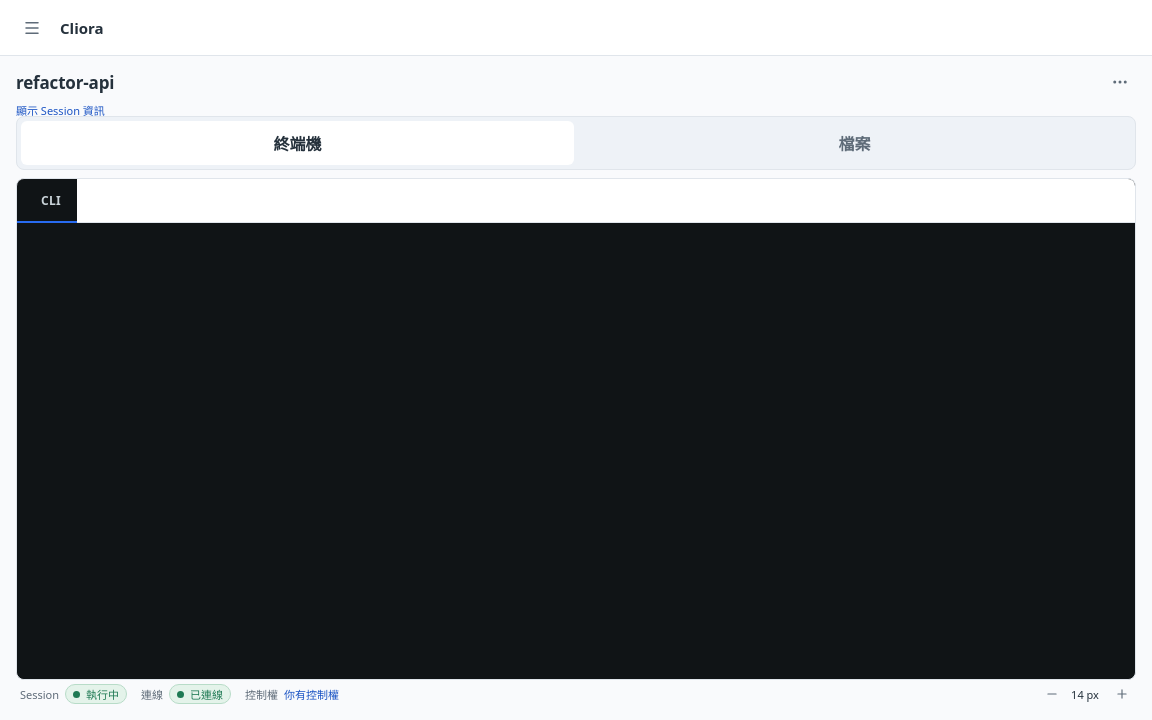
Test: SessionWorkspaceView — 手機上的檔案（#76） › 新 session 進入檔案分頁：列出根目錄，點檔案開啟全幅唯讀預覽並讀取內容
Click the tab "檔案". click: point(854, 143)
box: [578,121,1131,165]
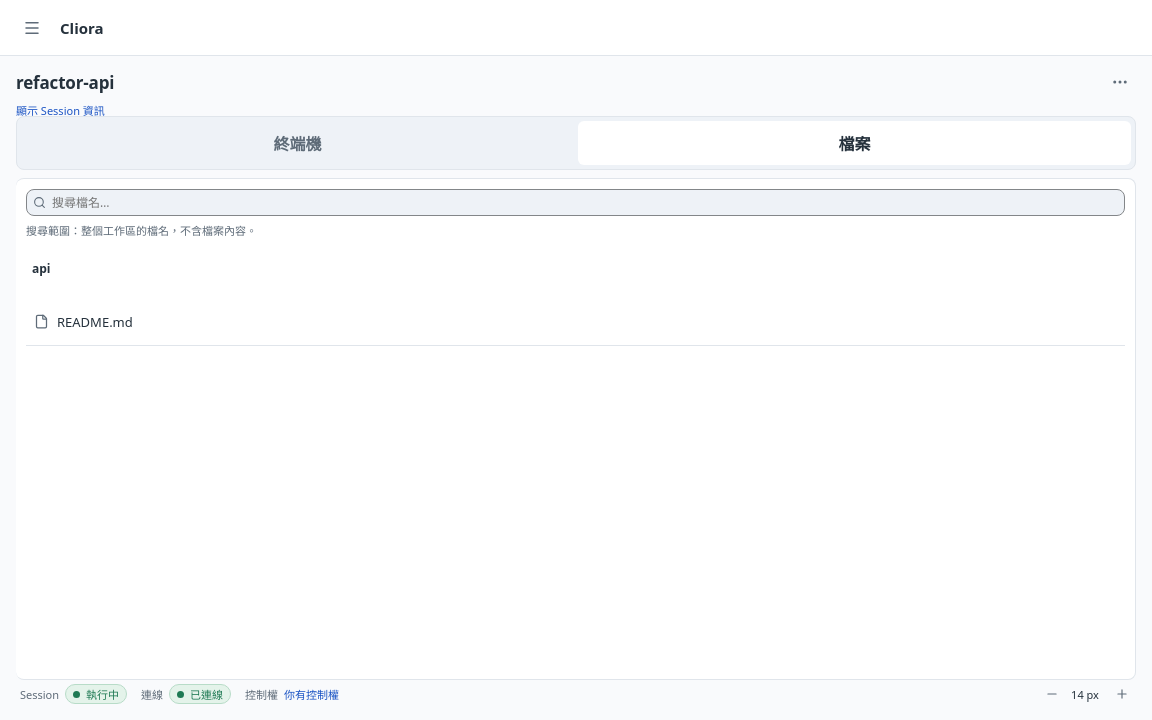
Expected: the button with class "entry" is shown
Click the button with class "entry". click: point(95, 322)
box: [26,298,1125,346]
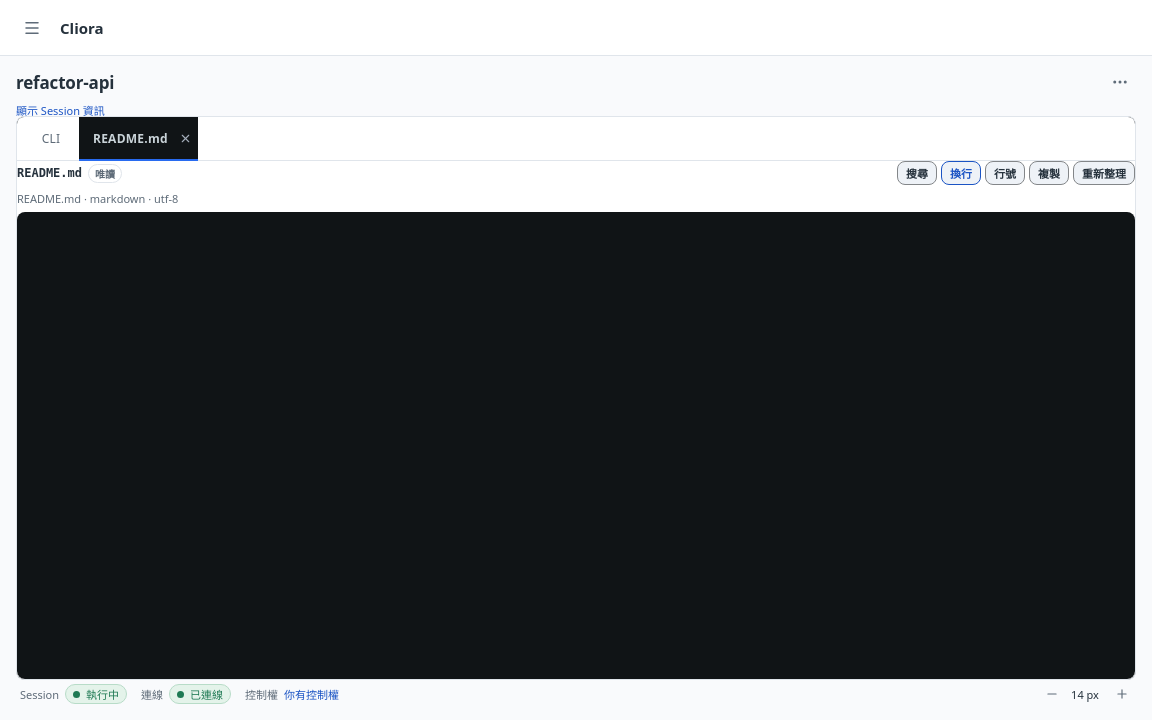
Expected: the panel is shown
Expected: the tab "README.md" is shown, [91,116,170,160]
Expected: the panel shows "唯讀", [95,166,115,180]
